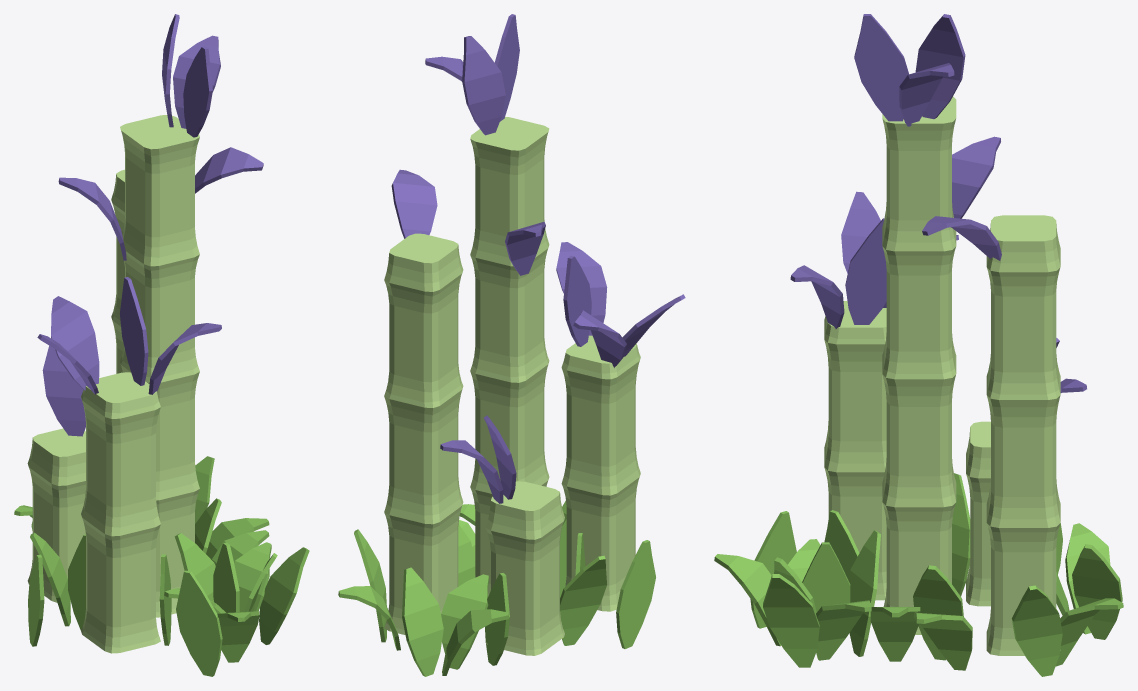
The model's file is Spring_Flower_3.fbx.
3 views of the same model, side by side, from view 1: azimuth 30°, elevation 25°; view 2: azimuth 150°, elevation 25°; view 3: azimuth 270°, elevation 25° (orthographic). The views are drawn at different scales.
Parts seen in each view (by area): view 1: Cube.141; view 2: Cube.141; view 3: Cube.141.
Boxes of the visible parts, <box> form: Cube.141: <box>14,14,309,676</box>; Cube.141: <box>338,14,685,676</box>; Cube.141: <box>714,14,1123,676</box>.
Size of the model in its own units: 67.12 by 146 by 84.51.
